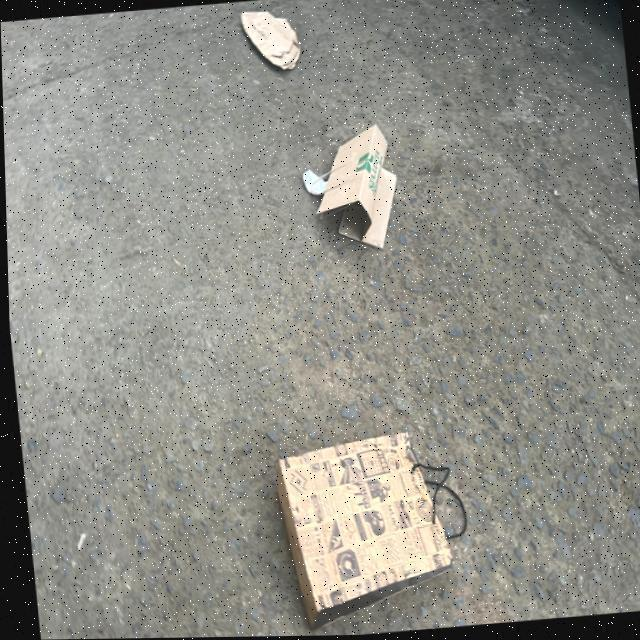Paper_Bag: (266, 422, 476, 630), (293, 124, 402, 264), (240, 7, 304, 80)
